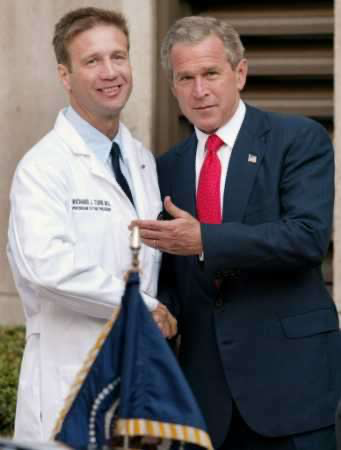Face: (170, 49, 241, 134), (68, 36, 136, 116)
